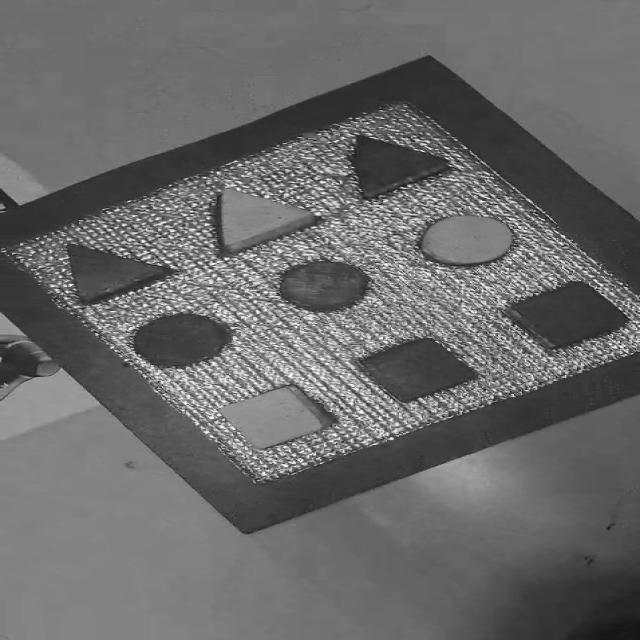bcircle: (116, 294, 258, 376)
bcube: (347, 329, 488, 409)
btriangle: (308, 117, 470, 207)
rcircle: (253, 251, 395, 327)
rcube: (494, 272, 637, 355)
rtriangle: (27, 218, 186, 310)
wb: (11, 104, 639, 483)
ycircle: (386, 200, 551, 282)
ycube: (206, 381, 343, 452)
ytriangle: (161, 162, 345, 260)
